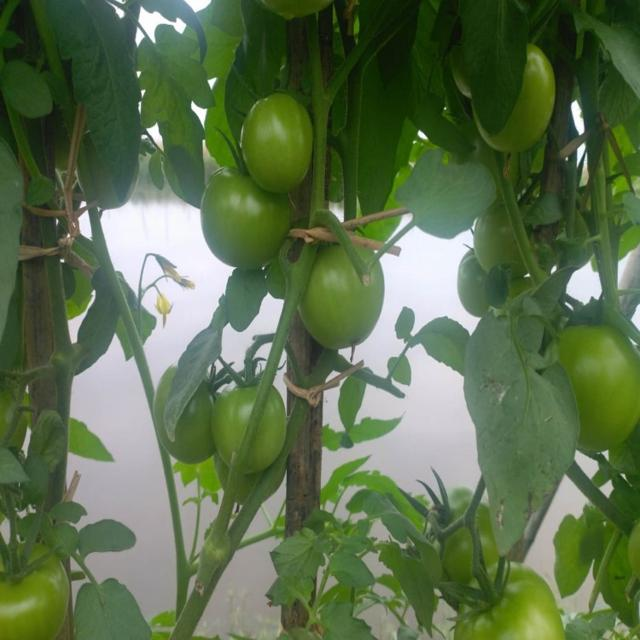tomato: (453, 561, 569, 640), (572, 315, 640, 443), (199, 180, 287, 269), (246, 100, 313, 203), (311, 247, 379, 346), (1, 542, 64, 634), (517, 54, 554, 141), (215, 383, 260, 452)
